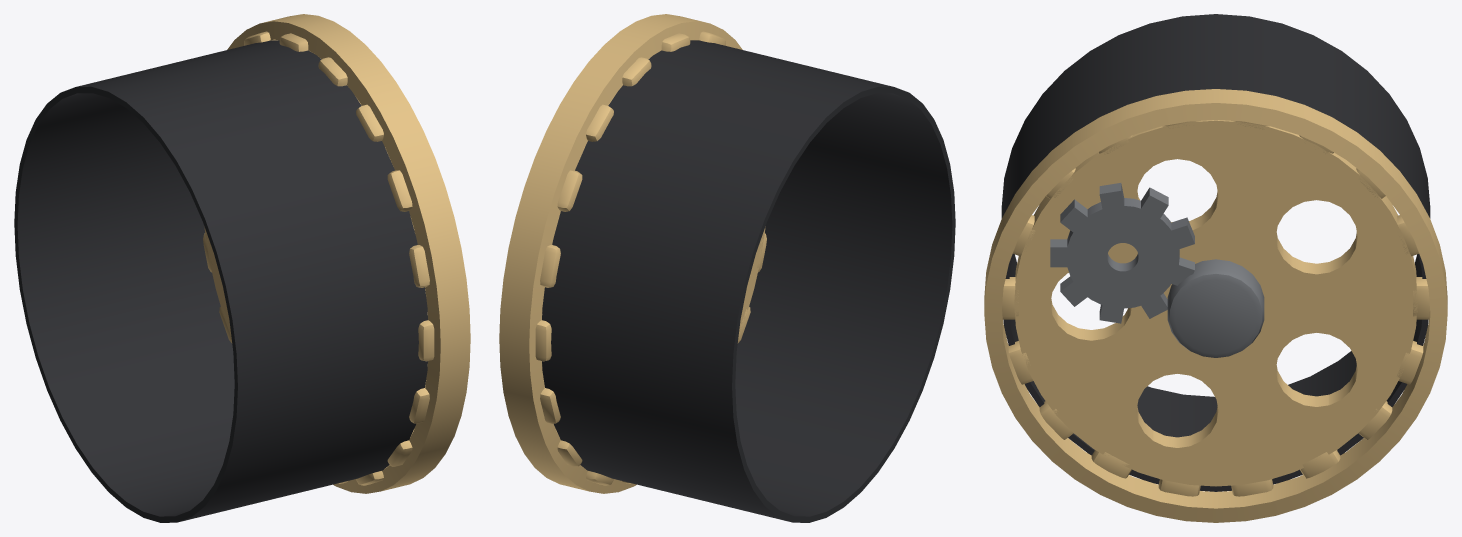
File: rim_cog.fbx
3 views of the same model, side by side, from view 1: azimuth 30°, elevation 25°; view 2: azimuth 150°, elevation 25°; view 3: azimuth 270°, elevation 25° (orthographic). The views are drawn at different scales.
Parts seen in each view (by area): view 1: dark_1, brass_1; view 2: dark_1, brass_1; view 3: brass_1, dark_1, gun_1.
Part boxes in pixels (box(x1,y1,x2,y2)): dark_1: box(14, 40, 427, 522); brass_1: box(203, 14, 470, 493); dark_1: box(542, 40, 955, 522); brass_1: box(499, 14, 766, 493); brass_1: box(984, 89, 1447, 522); dark_1: box(1001, 14, 1430, 491); gun_1: box(1050, 183, 1264, 357).
Bounding box in the file's own units: 0.0227 × 0.0409 × 0.0409.
